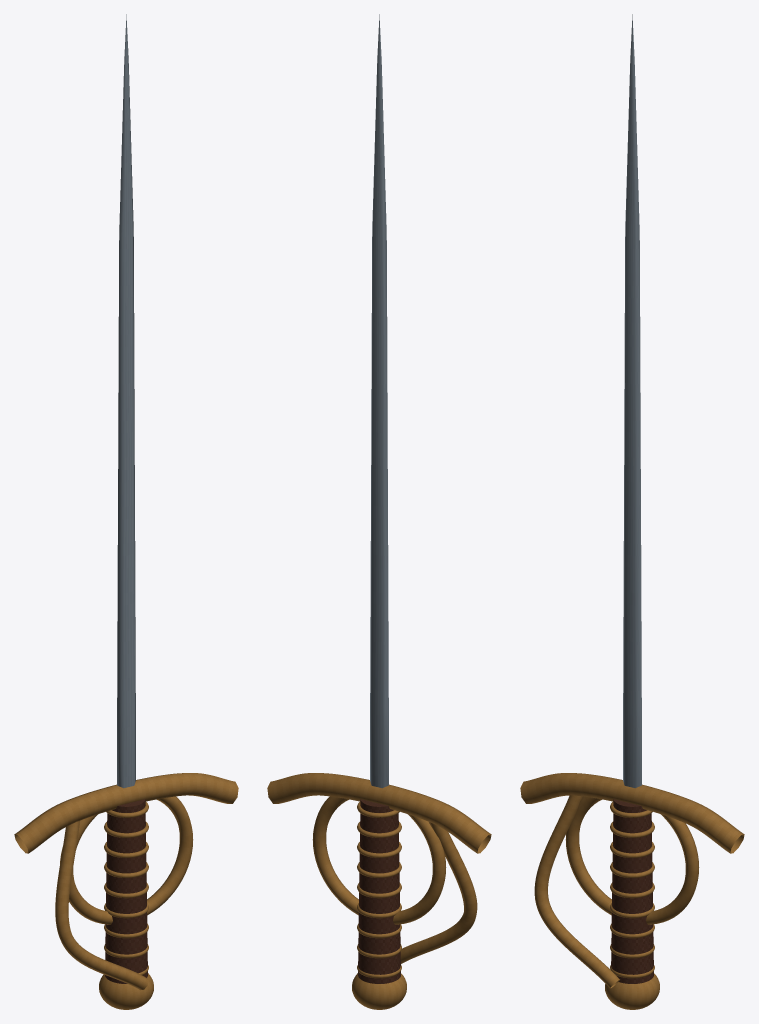
The model's file is rapier.glb.
3 renders of one model, left to right at view 1: azimuth 30°, elevation 25°; view 2: azimuth 150°, elevation 25°; view 3: azimuth 330°, elevation 25°, orthographic.
Visible parts, largest first — view 1: blade, brass.11, leather.0, brass.13, brass.12, brass.10; view 2: blade, leather.0, brass.11, brass.12, brass.13, brass.10; view 3: blade, leather.0, brass.11, brass.12, brass.13, brass.10.
Boxes of the visible parts, left/top/right/bottom form: blade: left=117, top=14, right=135, bottom=788; brass.11: left=14, top=773, right=238, bottom=853; leather.0: left=105, top=799, right=147, bottom=983; brass.13: left=55, top=821, right=148, bottom=990; brass.12: left=60, top=796, right=193, bottom=924; brass.10: left=99, top=973, right=153, bottom=1009; blade: left=370, top=14, right=388, bottom=788; leather.0: left=358, top=799, right=400, bottom=983; brass.11: left=267, top=773, right=491, bottom=853; brass.12: left=312, top=796, right=446, bottom=924; brass.13: left=400, top=822, right=477, bottom=963; brass.10: left=352, top=973, right=406, bottom=1009; blade: left=623, top=14, right=641, bottom=788; leather.0: left=611, top=799, right=653, bottom=983; brass.11: left=520, top=773, right=744, bottom=853; brass.12: left=565, top=796, right=699, bottom=924; brass.13: left=534, top=795, right=619, bottom=988; brass.10: left=605, top=973, right=659, bottom=1009.
Size of the model in its own units: 0.2908 by 1.26 by 0.0799.
3 materials, 3 textured.
